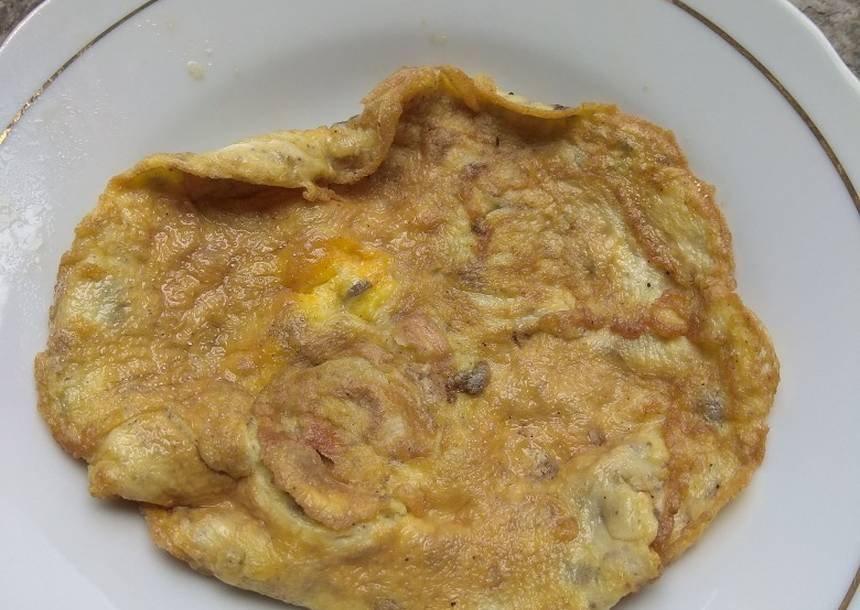Telur: (40, 68, 762, 610)
